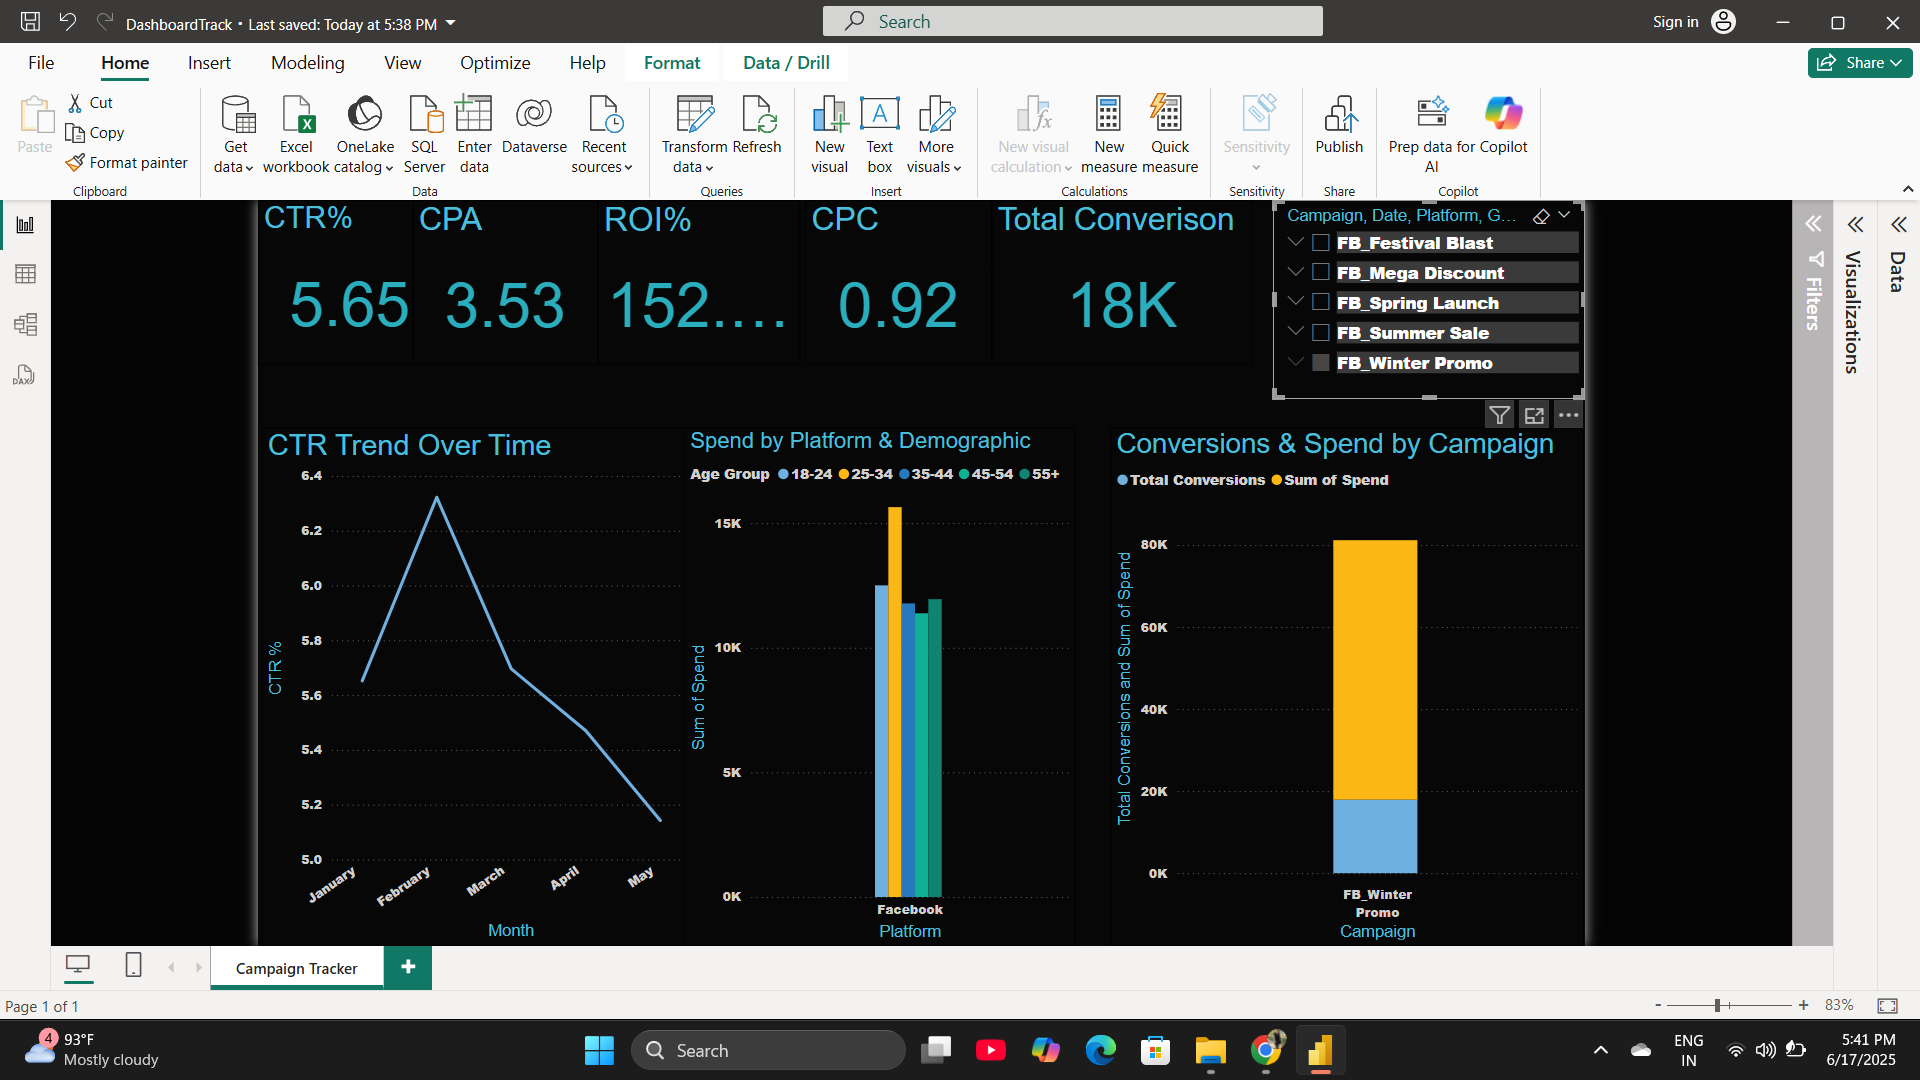

The dashboard page shown, as its layout file describes it:
{"tool":"powerbi","page":{"name":"Campaign Tracker","canvas":[1280,720],"ordinal":0},"visuals":[{"type":"card","title":"       CTR%","fields":{"Values":["Sheet1.CTR %"]},"box":[0,0,177.8,159.3],"z":0},{"type":"card","title":"CPC","fields":{"Values":["Sheet1.CPC"]},"box":[528.3,0,179.8,159.2],"z":1000},{"type":"card","title":"CPA","fields":{"Values":["Sheet1.CPA"]},"box":[149.6,0,178.4,159.2],"z":2000},{"type":"card","title":"ROI%","fields":{"Values":["Sheet1.ROI %"]},"box":[328,0,194.9,159.2],"z":3000},{"type":"card","title":"Total Converison","fields":{"Values":["Sheet1.Total Conversions"]},"box":[708,0,251.9,159],"z":4000},{"type":"lineStackedColumnComboChart","title":"Conversions & Spend by Campaign","fields":{"Category":["Sheet1.Campaign"],"Y":["Sheet1.Total Conversions","Sum(Sheet1.Spend)"]},"box":[823.3,219.6,456.9,500.9],"z":5000},{"type":"lineChart","title":"CTR Trend Over Time","fields":{"Category":["Sheet1.Date.Variation.Date Hierarchy.Month"],"Y":["Sheet1.CTR %"]},"box":[4.1,219.6,419.9,500.9],"z":6000},{"type":"clusteredColumnChart","title":"Spend by Platform & Demographic","fields":{"Category":["Sheet1.Platform"],"Y":["Sum(Sheet1.Spend)"],"Series":["Sheet1.Age Group"]},"box":[411.7,219.6,377.4,500.9],"z":7000},{"type":"slicer","fields":{"Values":["Sheet1.Campaign","Sheet1.Date","Sheet1.Platform","Sheet1.Gender"]},"box":[979.5,0,300.8,192],"z":8000}]}

Visuals, with their boxes on the page's 1280x720 design canvas (x1, y1, x2, y2). These are canvas units, not pixel positions in the 1920x1080 screenshot, which may show the page scaled, cropped or inside an application window:
"       CTR%" card: [0,0,178,159]
"CPC" card: [528,0,708,159]
"CPA" card: [150,0,328,159]
"ROI%" card: [328,0,523,159]
"Total Converison" card: [708,0,960,159]
"Conversions & Spend by Campaign" lineStackedColumnComboChart: [823,220,1280,720]
"CTR Trend Over Time" lineChart: [4,220,424,720]
"Spend by Platform & Demographic" clusteredColumnChart: [412,220,789,720]
slicer - Sheet1.Campaign x Sheet1.Date: [980,0,1280,192]
